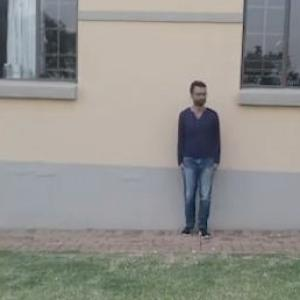follow: (176, 78, 222, 237)
